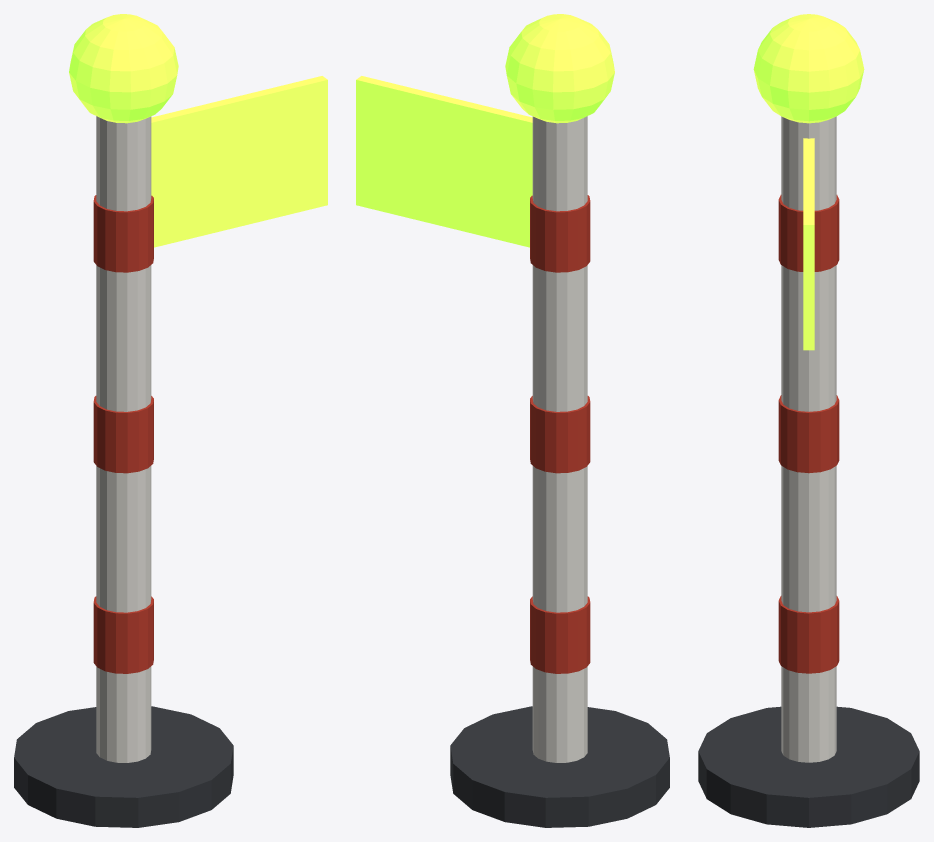
Rendered from checkpoint-lod0.glb.
The picture shows the model from 3 angles, left to right: view 1: azimuth 30°, elevation 25°; view 2: azimuth 150°, elevation 25°; view 3: azimuth 270°, elevation 25°; orthographic projection.
Parts seen in each view (by area): view 1: checkpoint; view 2: checkpoint; view 3: checkpoint.
Boxes of the visible parts, bbox=[...] form: checkpoint: bbox=[14, 14, 327, 827]; checkpoint: bbox=[356, 14, 669, 827]; checkpoint: bbox=[698, 14, 919, 827].
Size of the model in its own units: 0.62 by 1.52 by 0.4.
